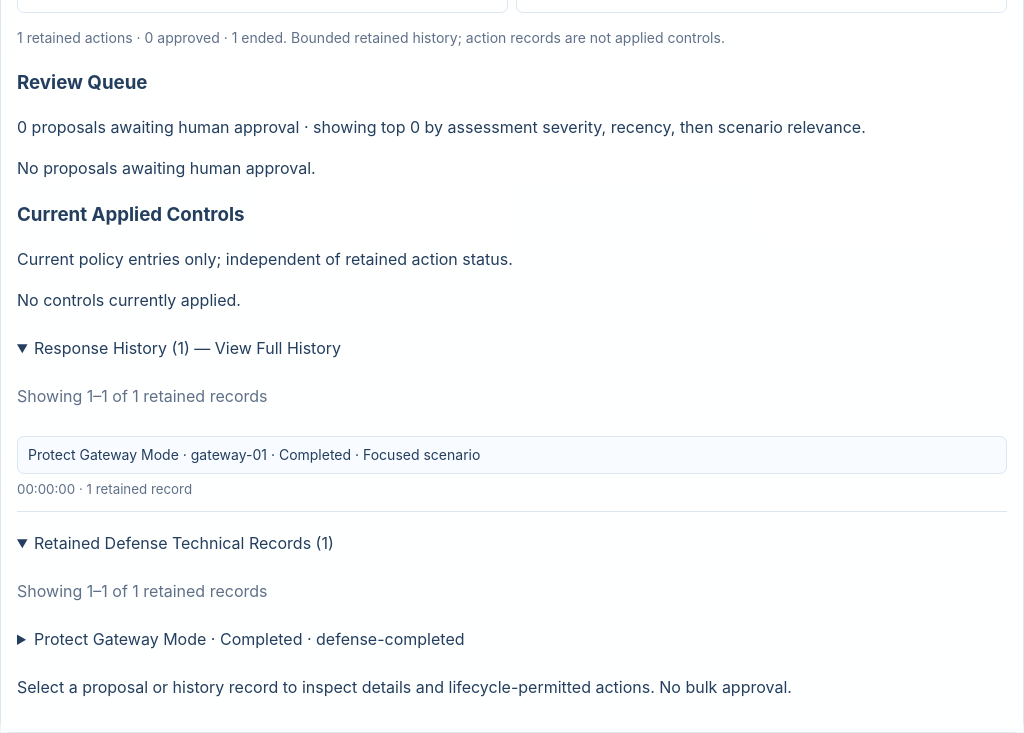
Test: defense lifecycle controls › shows no approval control for a completed action
(page scrolled)
Click the button: point(103, 455) top-left (17, 436), bottom-right (1007, 474)
(page scrolled)
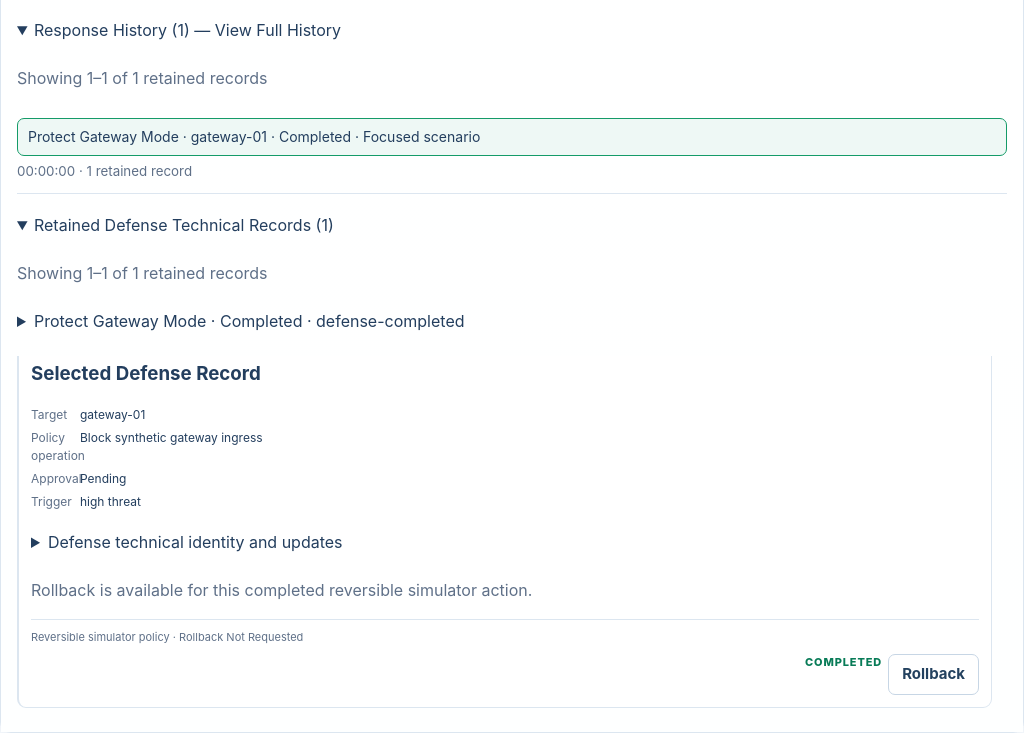
Expected: the button "Approve" is not shown
Now the text "Completed" is shown, box top-left (805, 655), bottom-right (882, 669)
Now the button "Rollback" is enabled, box top-left (888, 654), bottom-right (979, 695)
